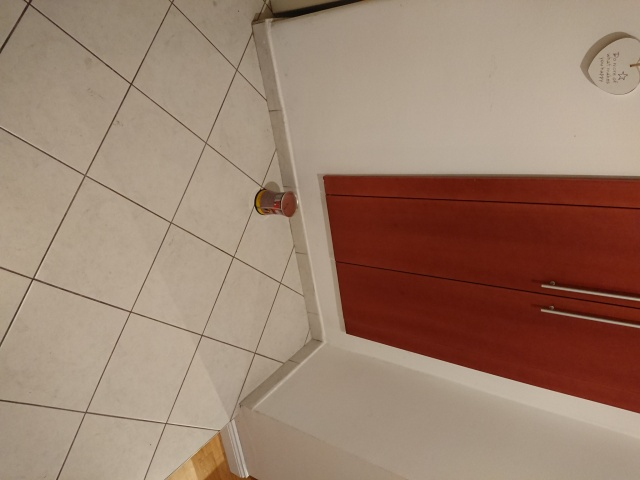Nescafe Classic 225g: (252, 184, 300, 220)
